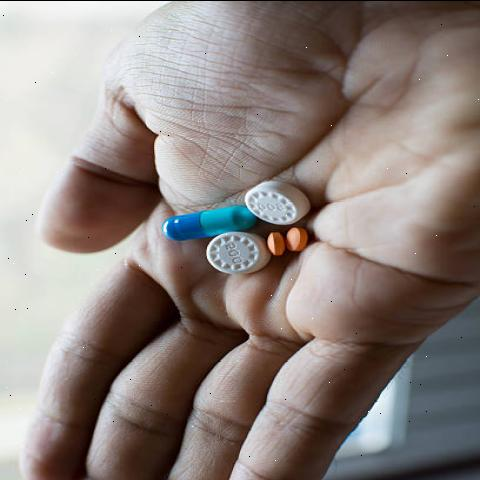Pill: (239, 175, 314, 229), (194, 230, 272, 278)
